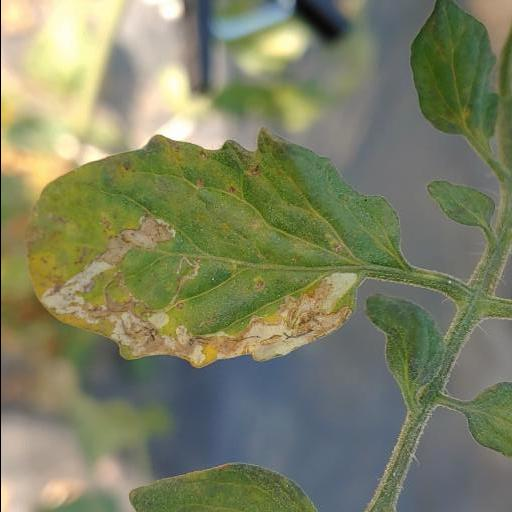disease_tomato: (25, 126, 408, 368)
